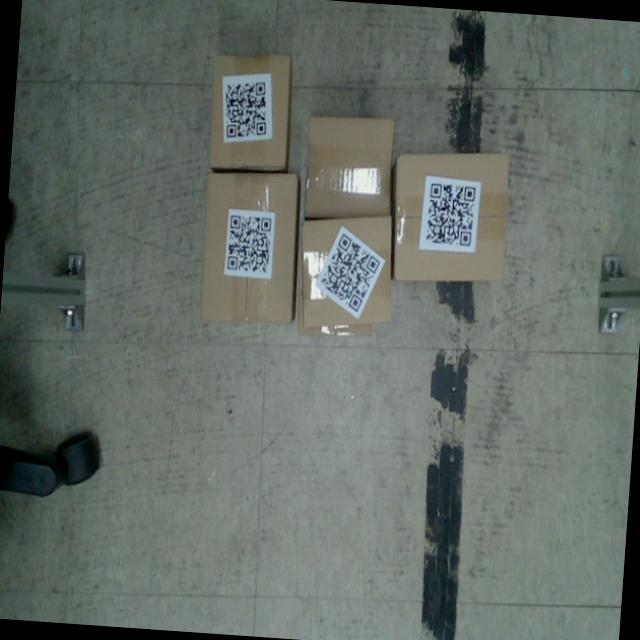box: (385, 144, 516, 292), (196, 166, 305, 326), (295, 210, 398, 332), (202, 47, 298, 175), (296, 109, 399, 224)
